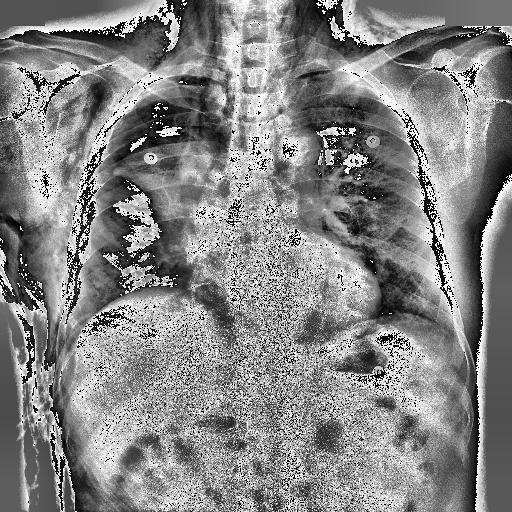0- Aortic enlargement: (267, 125, 324, 191), (263, 124, 325, 182)
12- Pneumothorax: (45, 48, 234, 368)
3- Cardiomegaly: (186, 273, 382, 327)
4- Consolidation: (108, 94, 218, 274), (113, 138, 218, 265)
7- Lung Opacity: (348, 120, 448, 320), (108, 94, 218, 274), (114, 110, 222, 279)
9- Other lesion: (1, 60, 111, 494), (10, 129, 242, 290), (8, 86, 95, 496), (319, 132, 489, 256), (4, 214, 74, 506), (122, 1, 426, 66), (320, 118, 428, 248), (44, 78, 106, 188), (123, 3, 189, 75), (300, 5, 382, 59), (322, 0, 416, 44), (124, 8, 186, 70)
